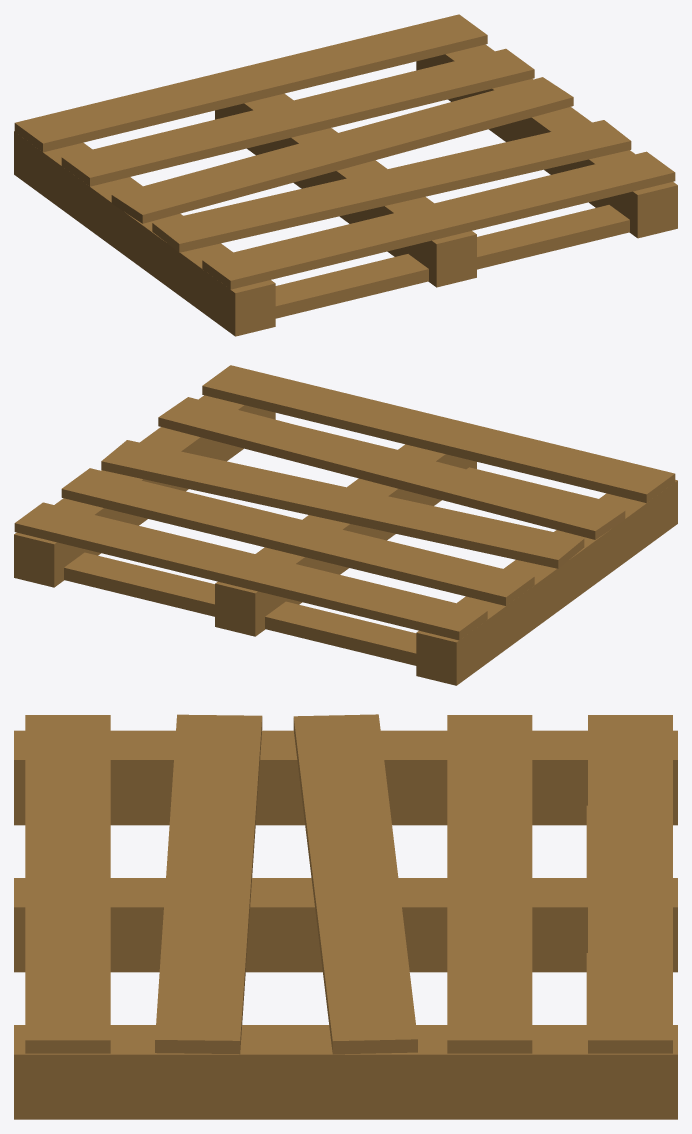
File: Pallet.glb
The picture shows the model from 3 angles, top to bottom: view 1: azimuth 30°, elevation 25°; view 2: azimuth 150°, elevation 25°; view 3: azimuth 270°, elevation 25°; orthographic projection. The views are drawn at different scales.
Visible parts, largest first — view 1: Pallet; view 2: Pallet; view 3: Pallet.
Boxes of the visible parts, x1,y1,x2,y2 form: Pallet: (14,14,677,336); Pallet: (14,365,677,685); Pallet: (14,714,677,1119).
Size of the model in its own units: 1.7 by 0.1932 by 1.46.
